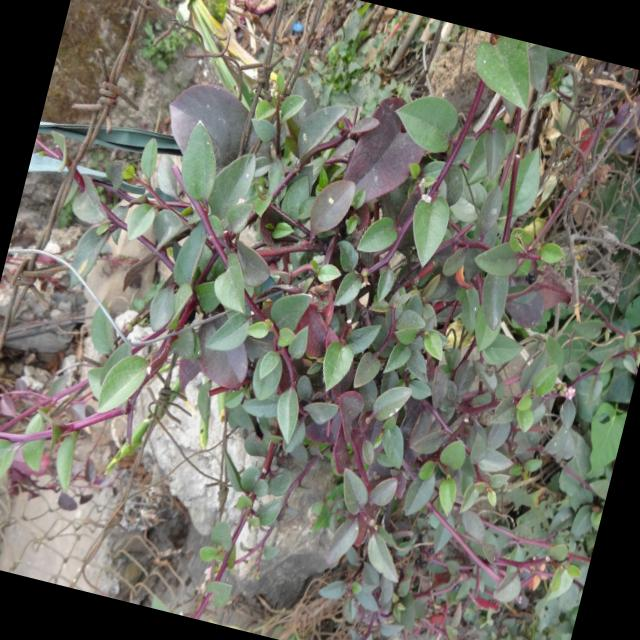Medicinal-Basale: (59, 4, 587, 528)
